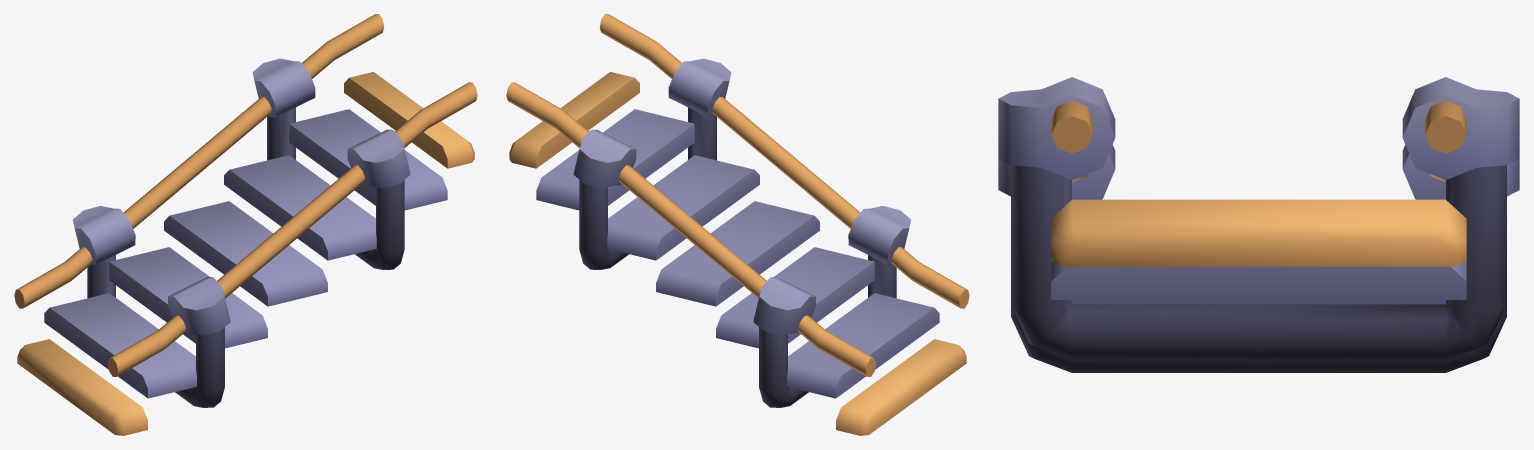
File: prop-metal-stairs.glb
3 renders of one model, left to right at view 1: azimuth 30°, elevation 25°; view 2: azimuth 150°, elevation 25°; view 3: azimuth 270°, elevation 25°, orthographic. The views are drawn at different scales.
Visible parts, largest first — view 1: catwalk-stairs; view 2: catwalk-stairs; view 3: catwalk-stairs.
Boxes of the visible parts, bbox=[...] form: catwalk-stairs: bbox=[14, 14, 477, 435]; catwalk-stairs: bbox=[506, 14, 969, 435]; catwalk-stairs: bbox=[998, 77, 1519, 372].
Size of the model in its own units: 2 by 1.4 by 1.26.
1 material, 1 textured.
